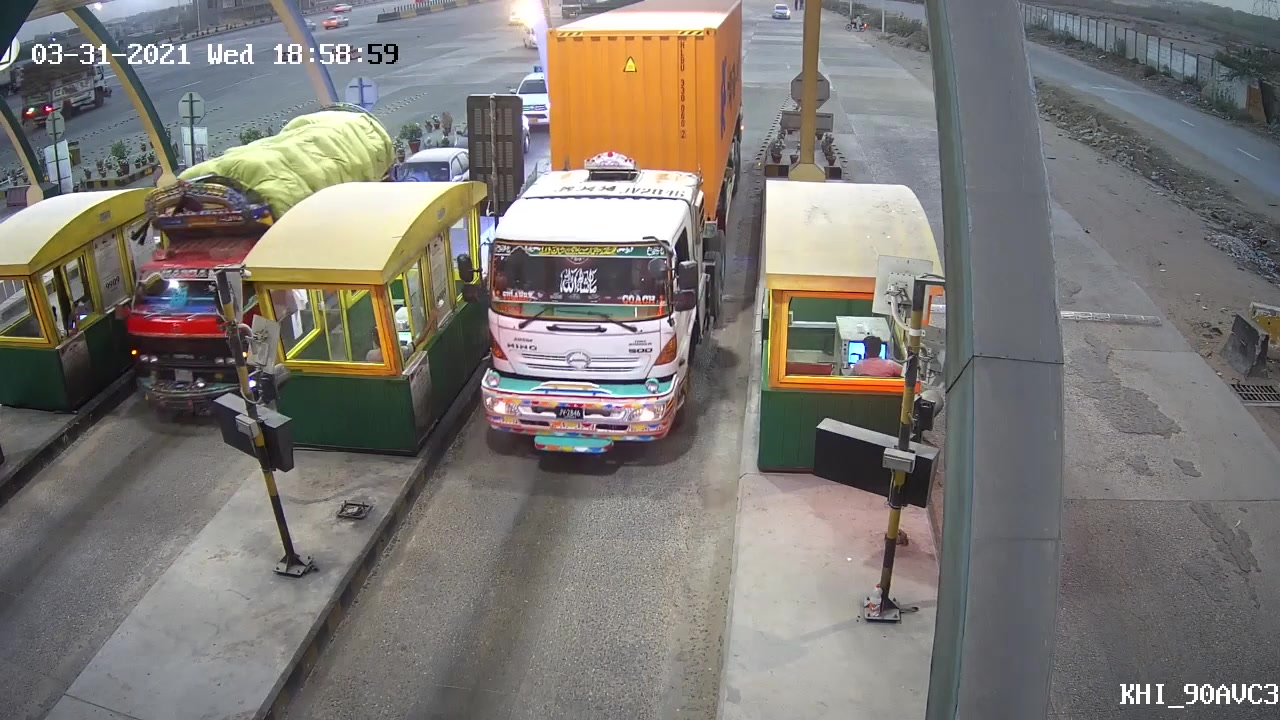F6: (457, 23, 724, 461)
